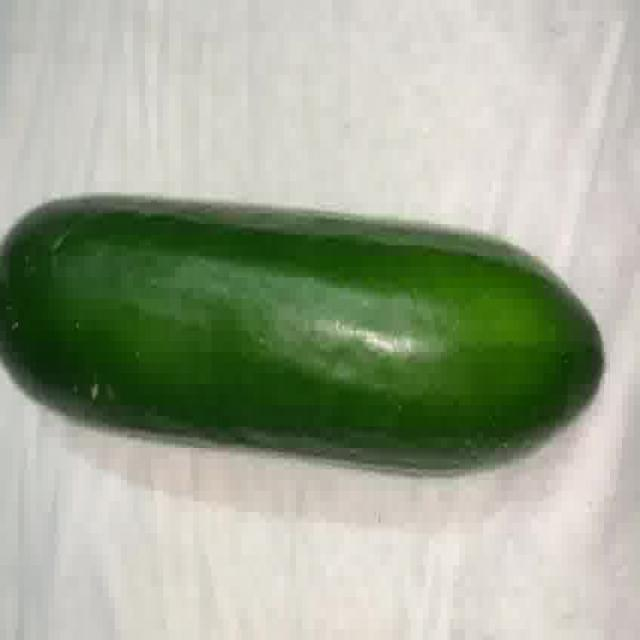Cucumber: (0, 195, 606, 476)
